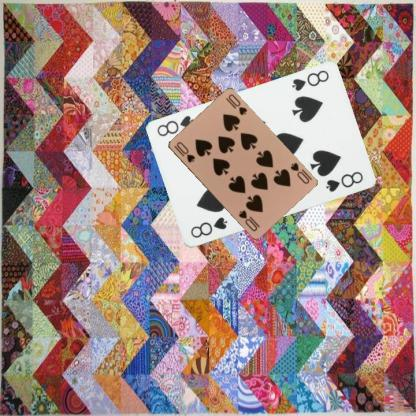10s: (171, 139, 196, 164), (287, 160, 310, 186)
8s: (188, 215, 229, 240), (289, 68, 330, 93)
